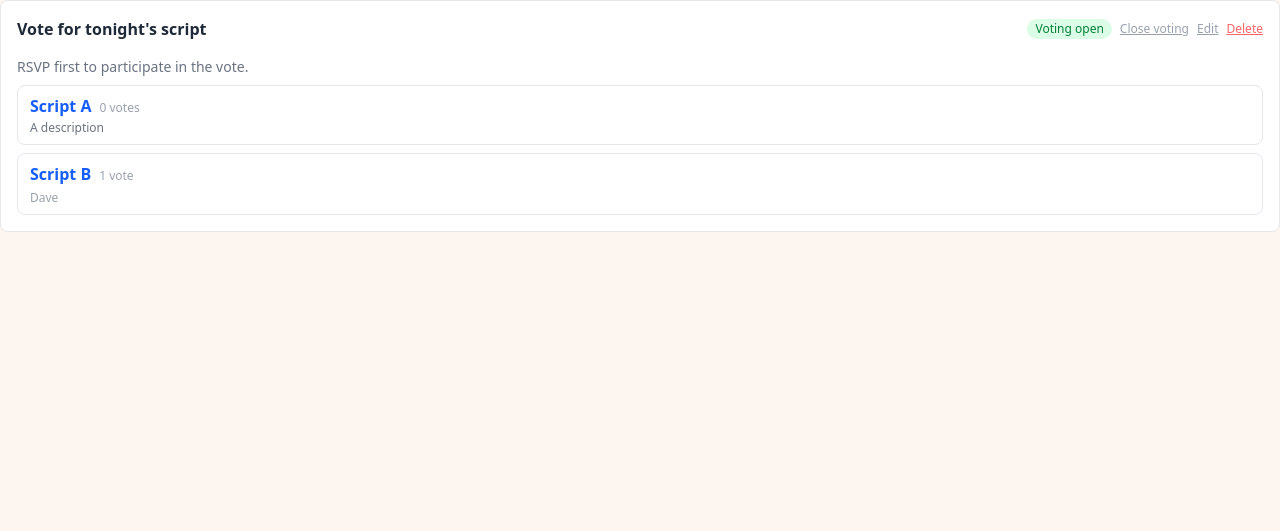
PollWidget — open poll › closes edit form when Cancel is clicked
The width and height of the screenshot is (1280, 531).
Click the button "Edit": (1208, 29) left=1197, top=21, right=1218, bottom=37
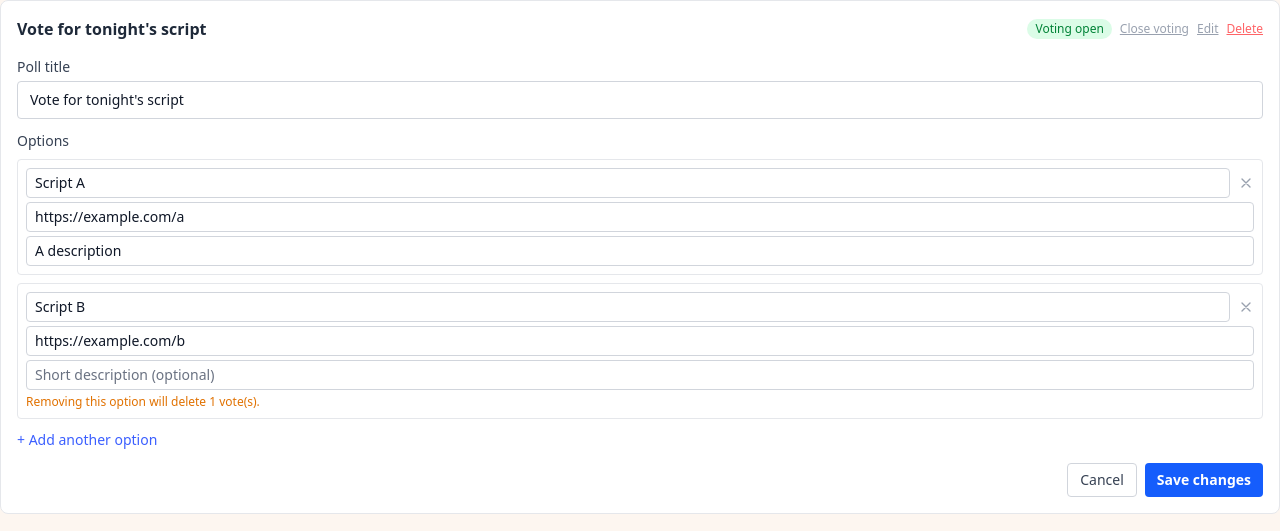
Click the button "Cancel": (1102, 480) left=1067, top=463, right=1137, bottom=497
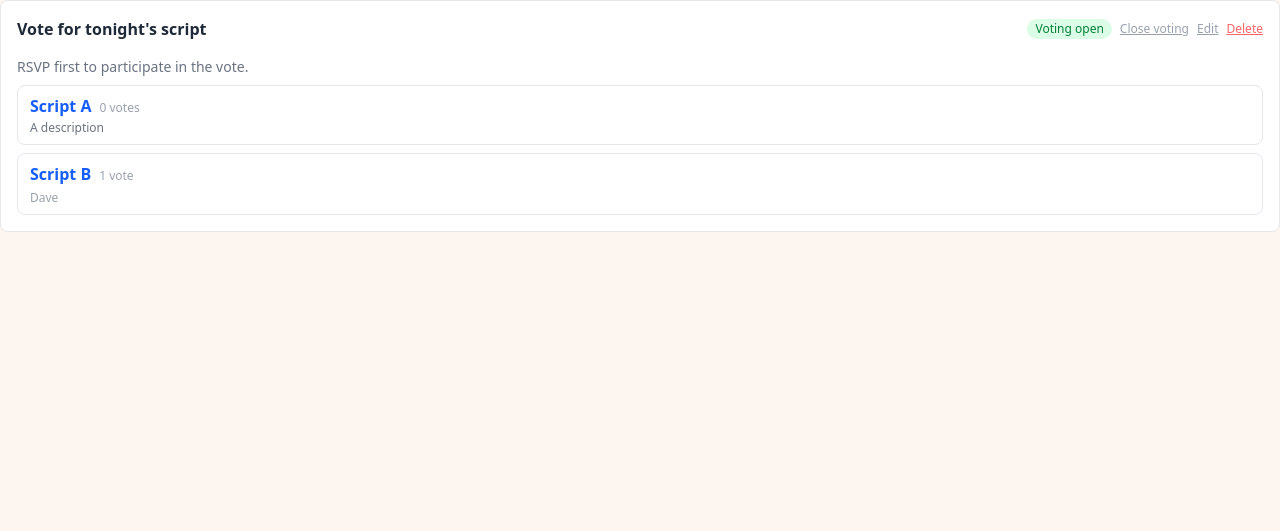
expect the button "Save changes" is gone: met
